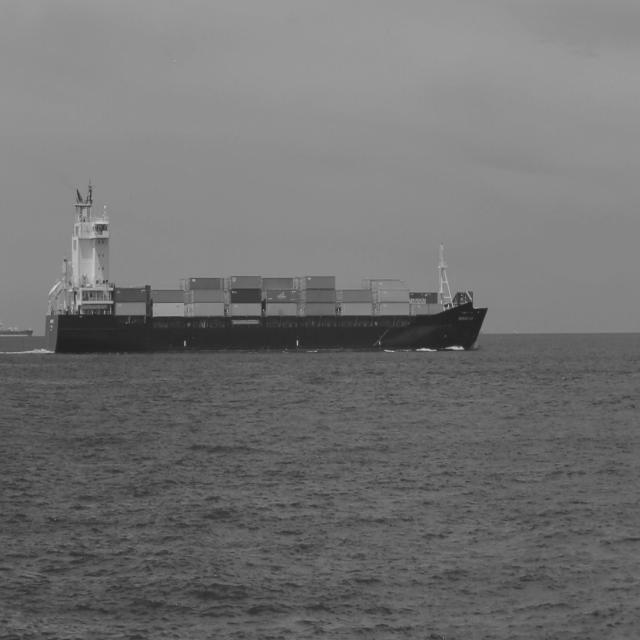ship: (41, 180, 490, 354)
